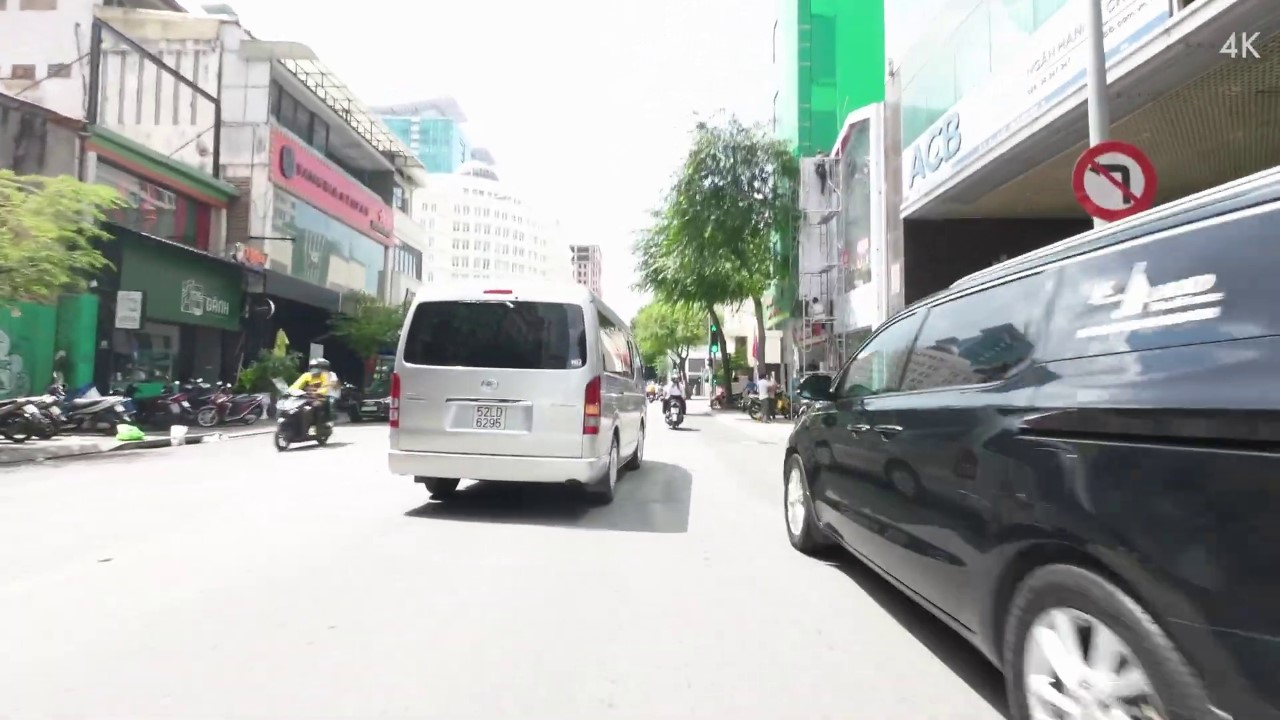cam_re_trai: (1067, 137, 1158, 224)
